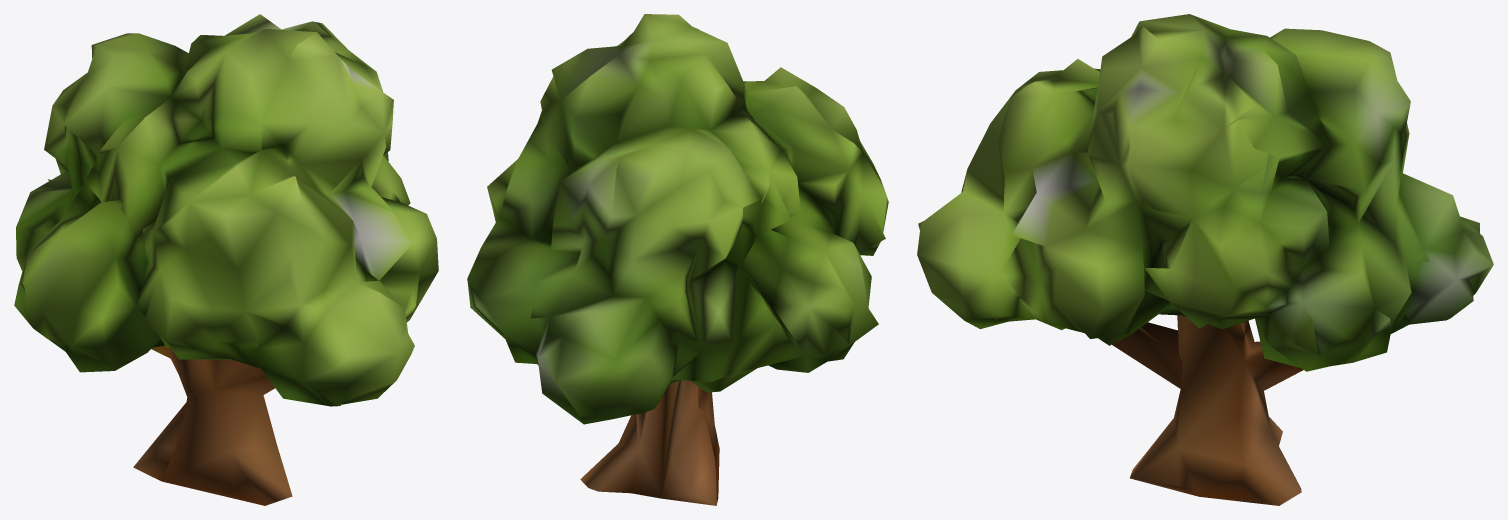
The model's file is tree_l3.glb.
3 renders of one model, left to right at view 1: azimuth 30°, elevation 25°; view 2: azimuth 150°, elevation 25°; view 3: azimuth 270°, elevation 25°, orthographic. The views are drawn at different scales.
Size of the model in its own units: 0.7392 by 0.8619 by 0.9685.
